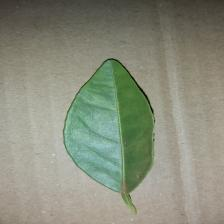greening: (60, 54, 164, 216)
